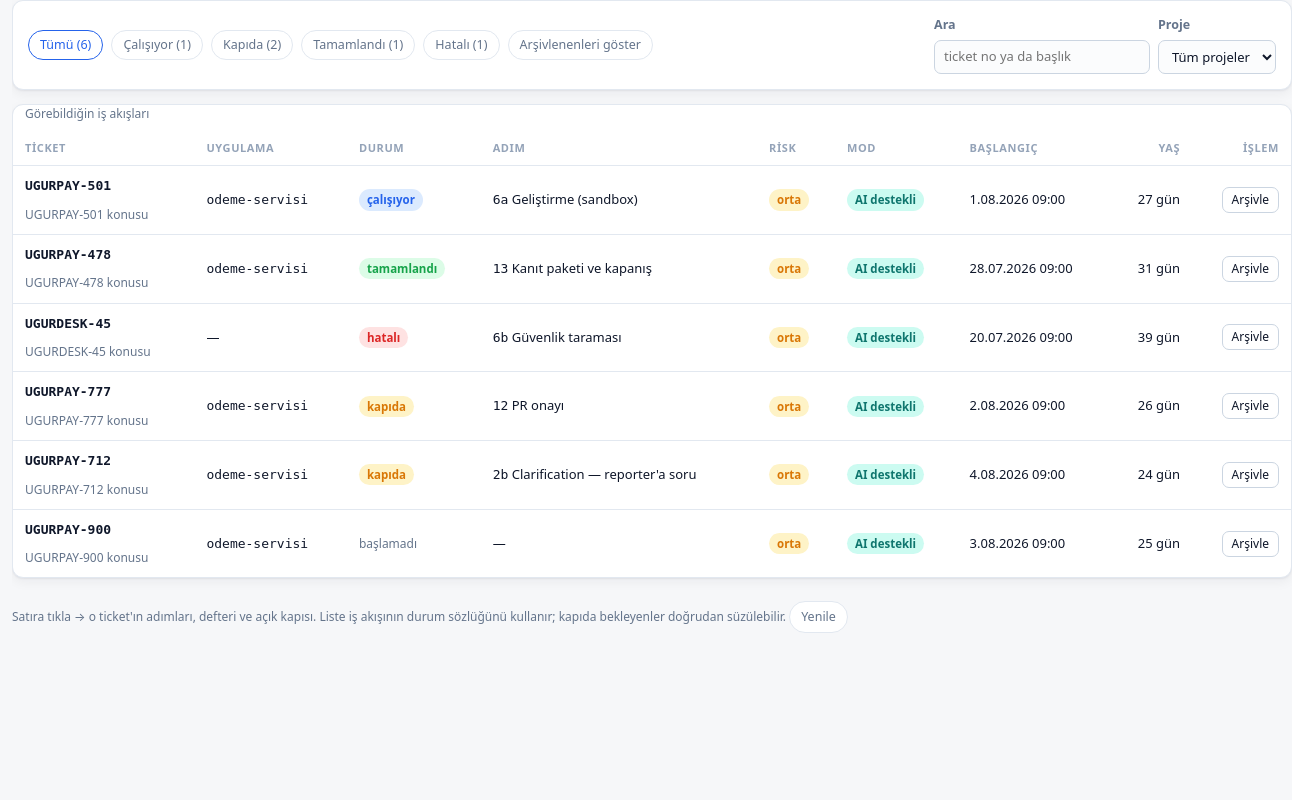
Test case: tickets › filters to runs parked at a gate
This screenshot has width=1292, height=800.
Expected: the text "UGURPAY-501" is shown, top-left (25, 178), bottom-right (111, 193)
Click the button "Kapıda (2)". click: x=252, y=45
box: top-left (211, 30), bottom-right (293, 60)
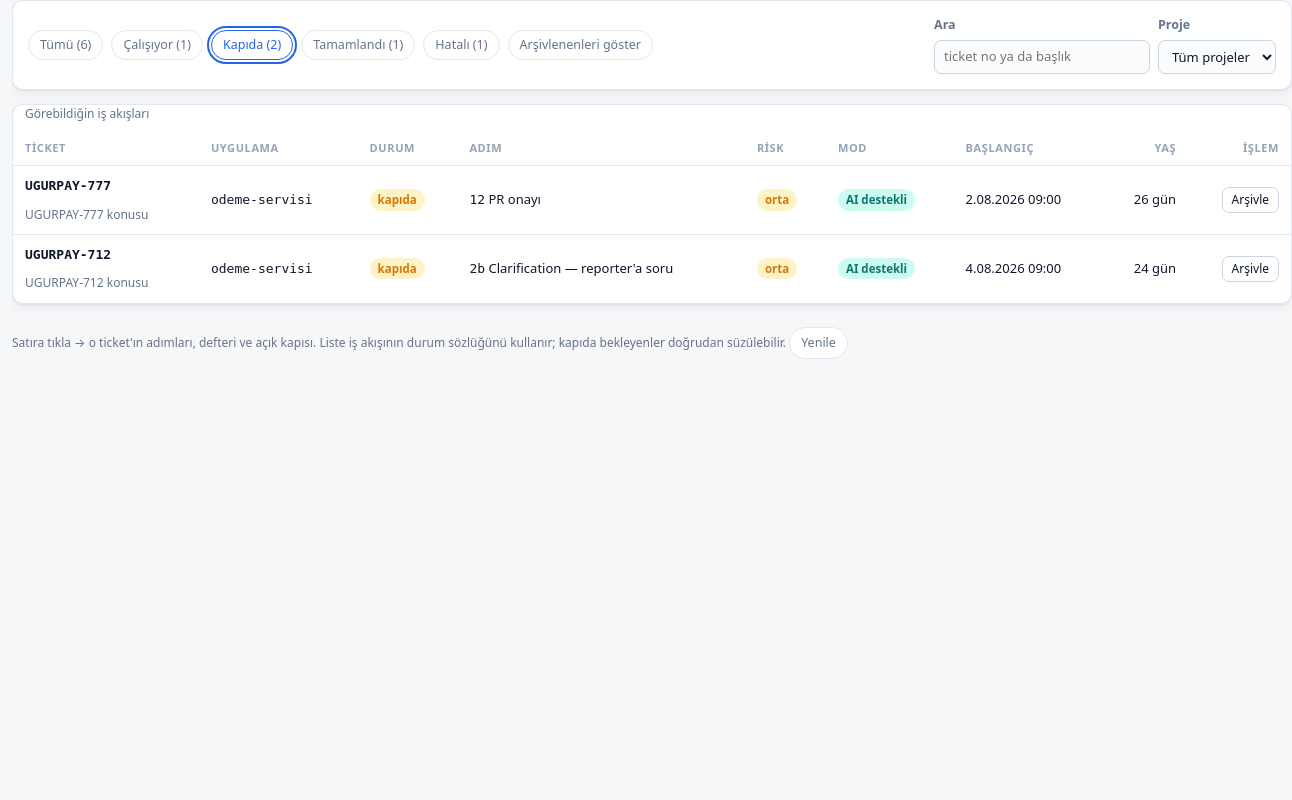
Expected: the text "UGURPAY-777" is shown, top-left (25, 178), bottom-right (111, 193)
Expected: the button "UGURPAY-501" is gone
